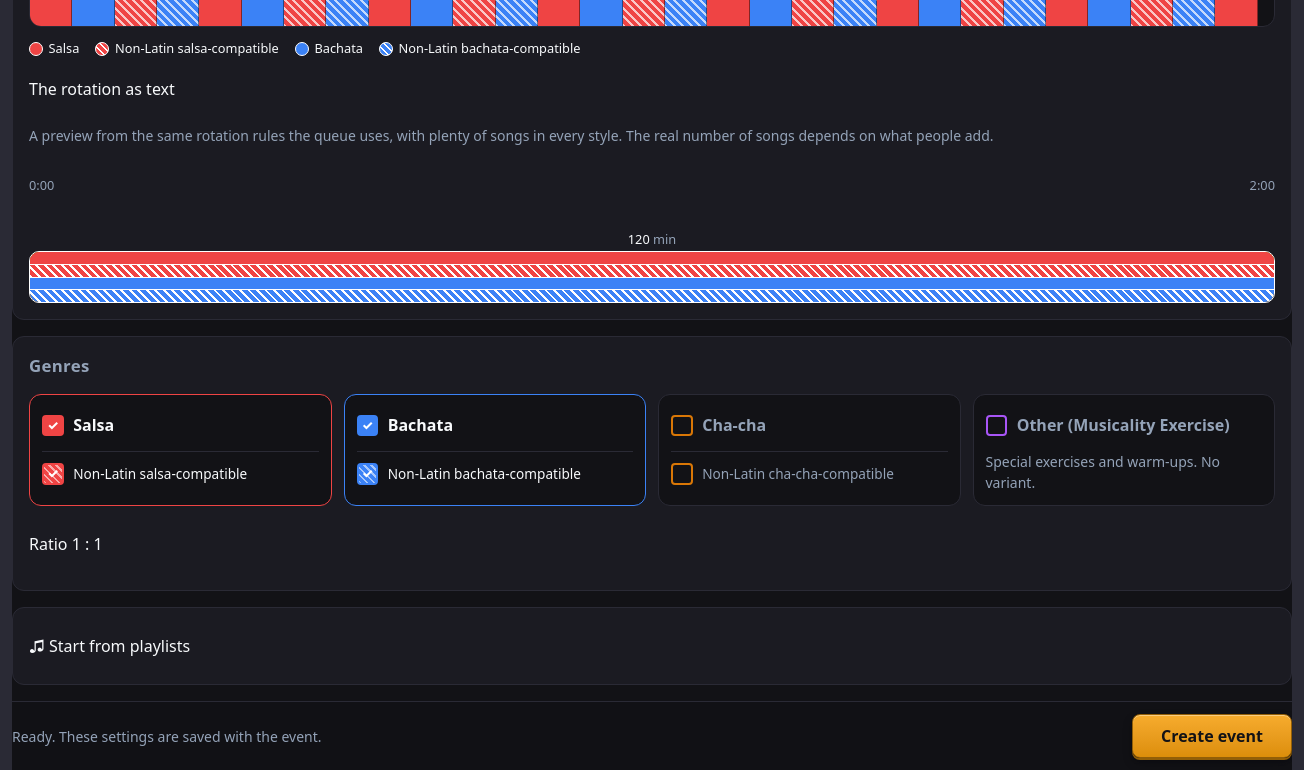
Scenario: CreateEvent › planner parameters and preview › draws the bar from the real rotation: runs follow songs in a row, and non-Latin follows its parent
(page scrolled)
Click the checkbox labelled "Non-Latin salsa-compatible": (180, 473) [42, 451, 318, 495]
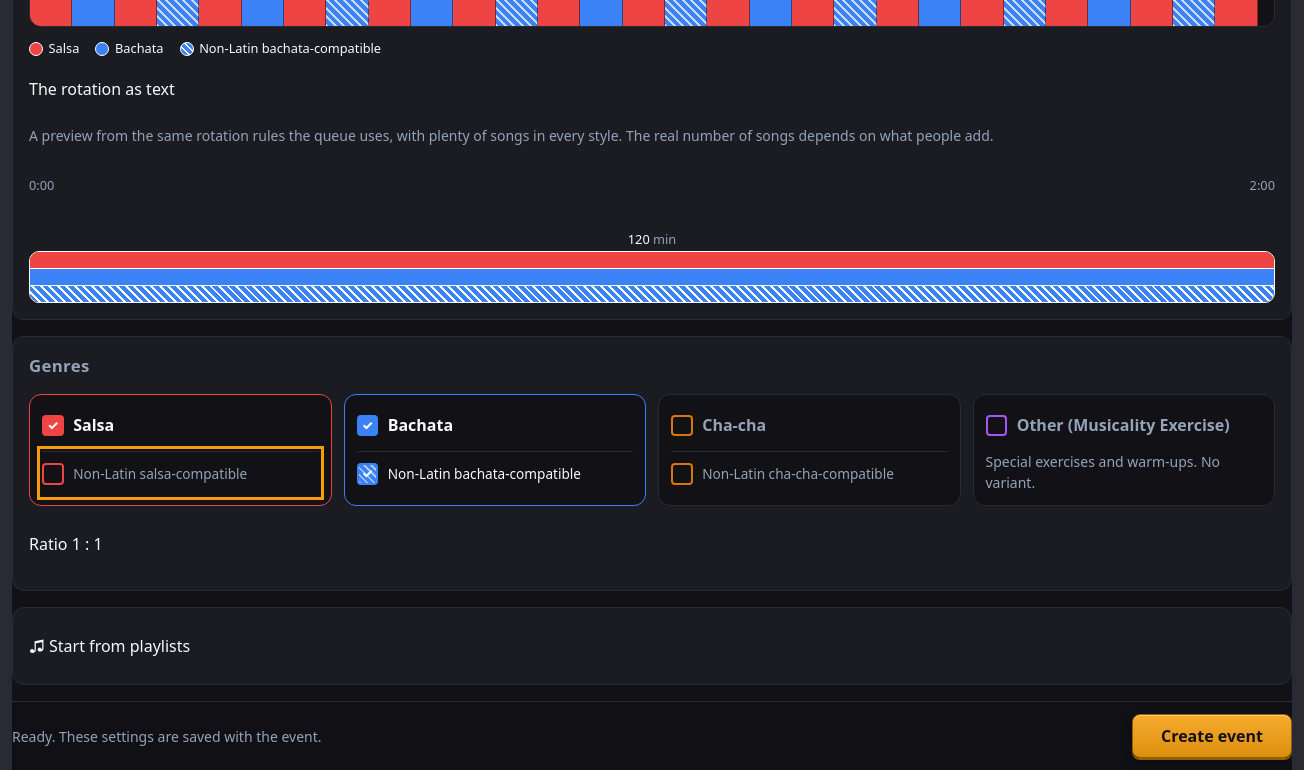
Click the checkbox labelled "Non-Latin bachata-compatible": (495, 473) [356, 451, 633, 495]
(page scrolled)
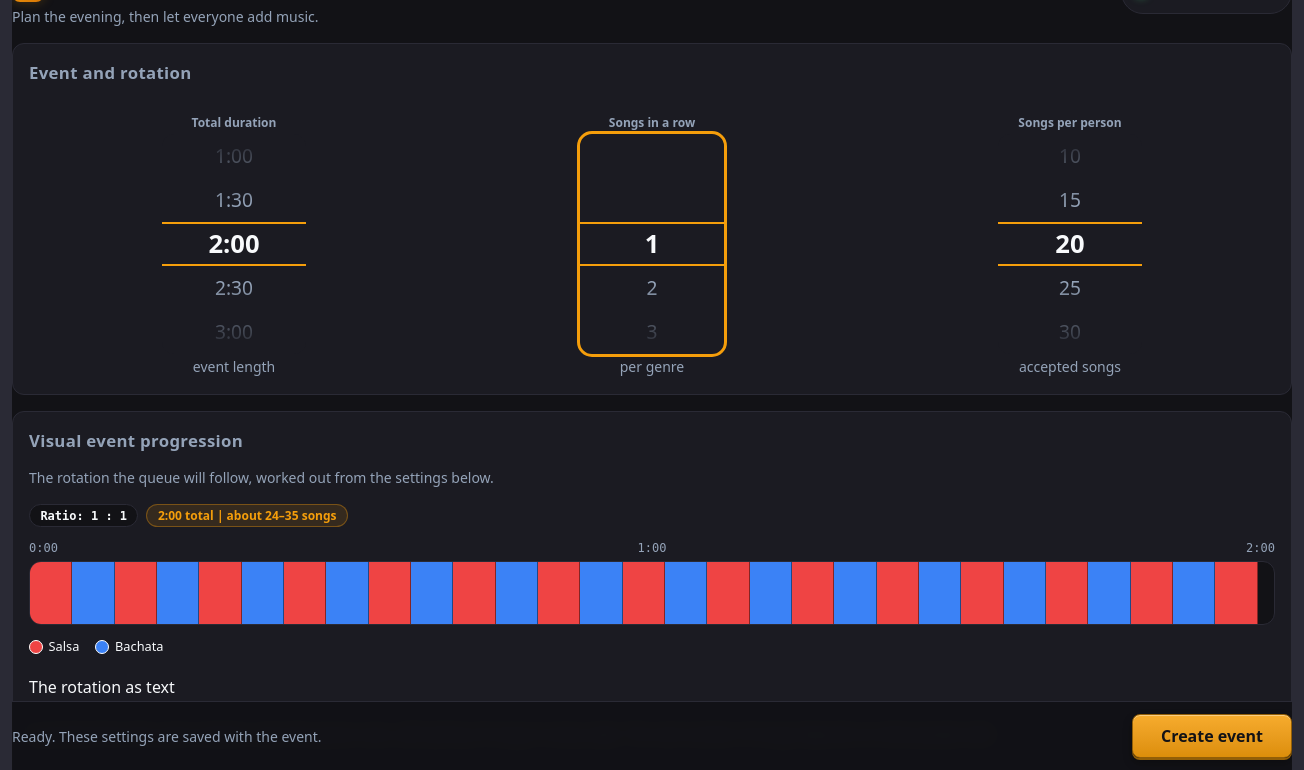
Press Arrowdown
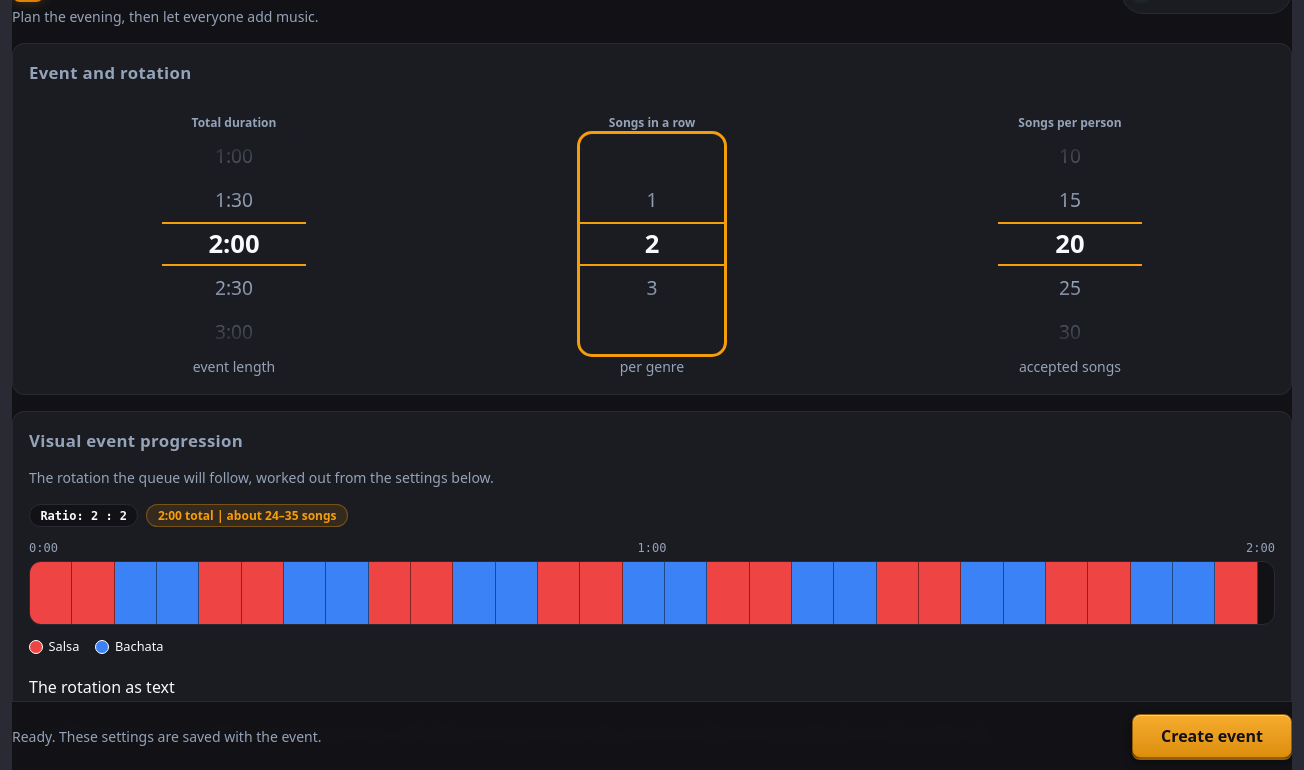
Click the heading "The rotation as text": (102, 686) [29, 676, 175, 698]
(page scrolled)
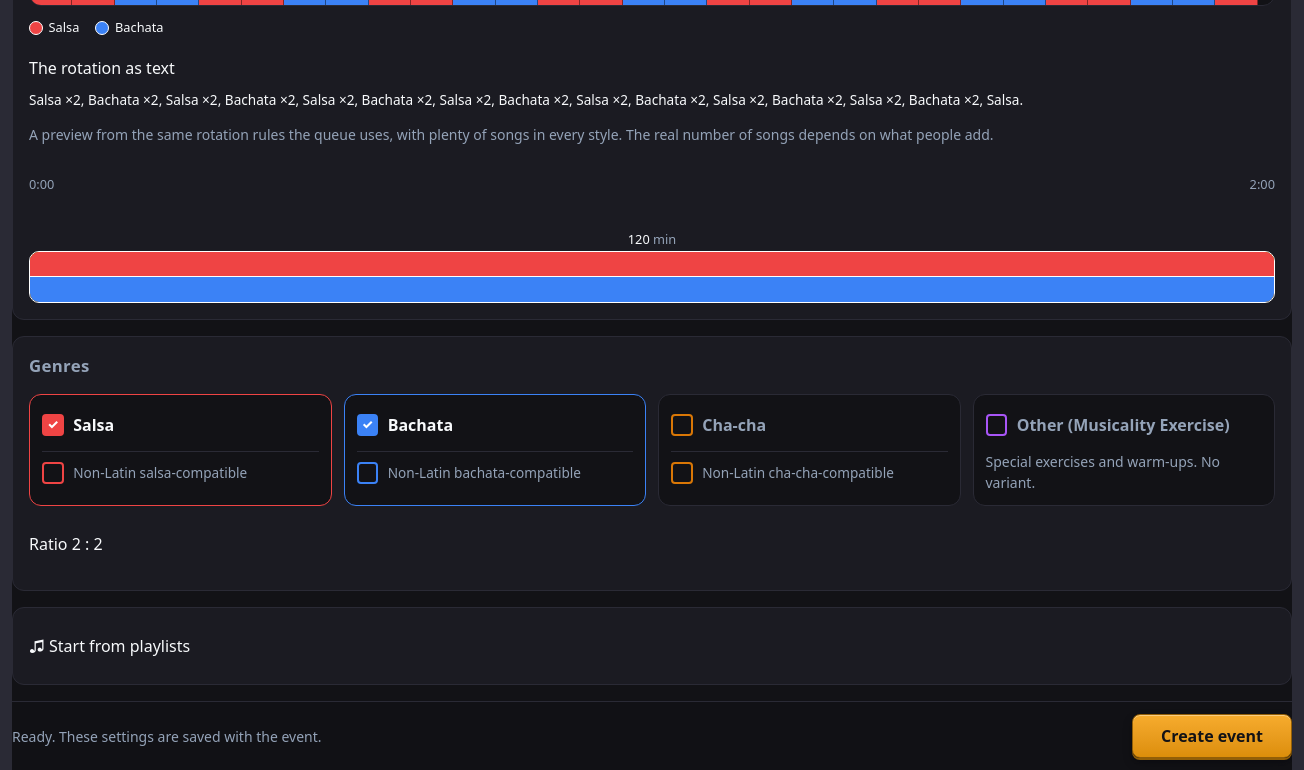
Expected: the text "Salsa ×2, Bachata ×2, Salsa ×2" is shown, [29, 90, 1023, 108]
Click the checkbox labelled "Non-Latin salsa-compatible": (180, 473) [42, 451, 318, 495]
(page scrolled)
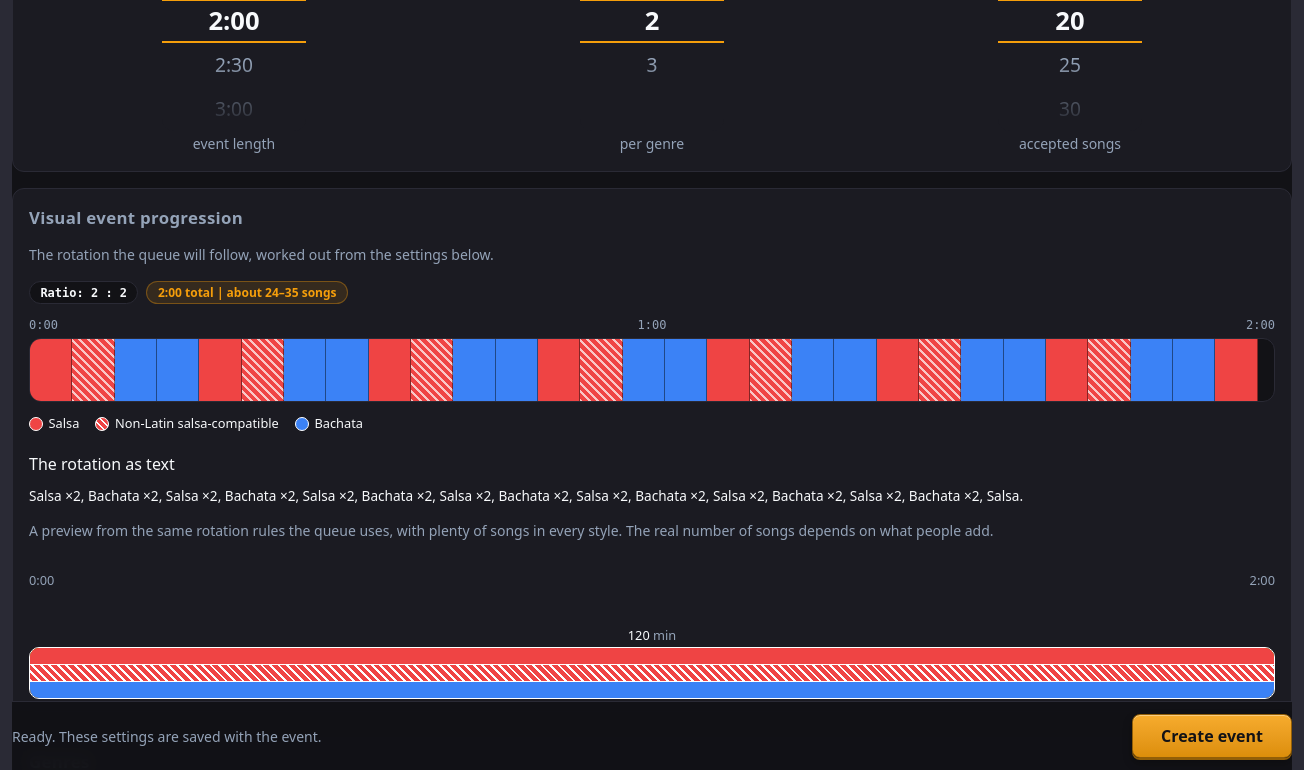
Expected: the 1st element with class "striped" is shown, [72, 339, 115, 401]
